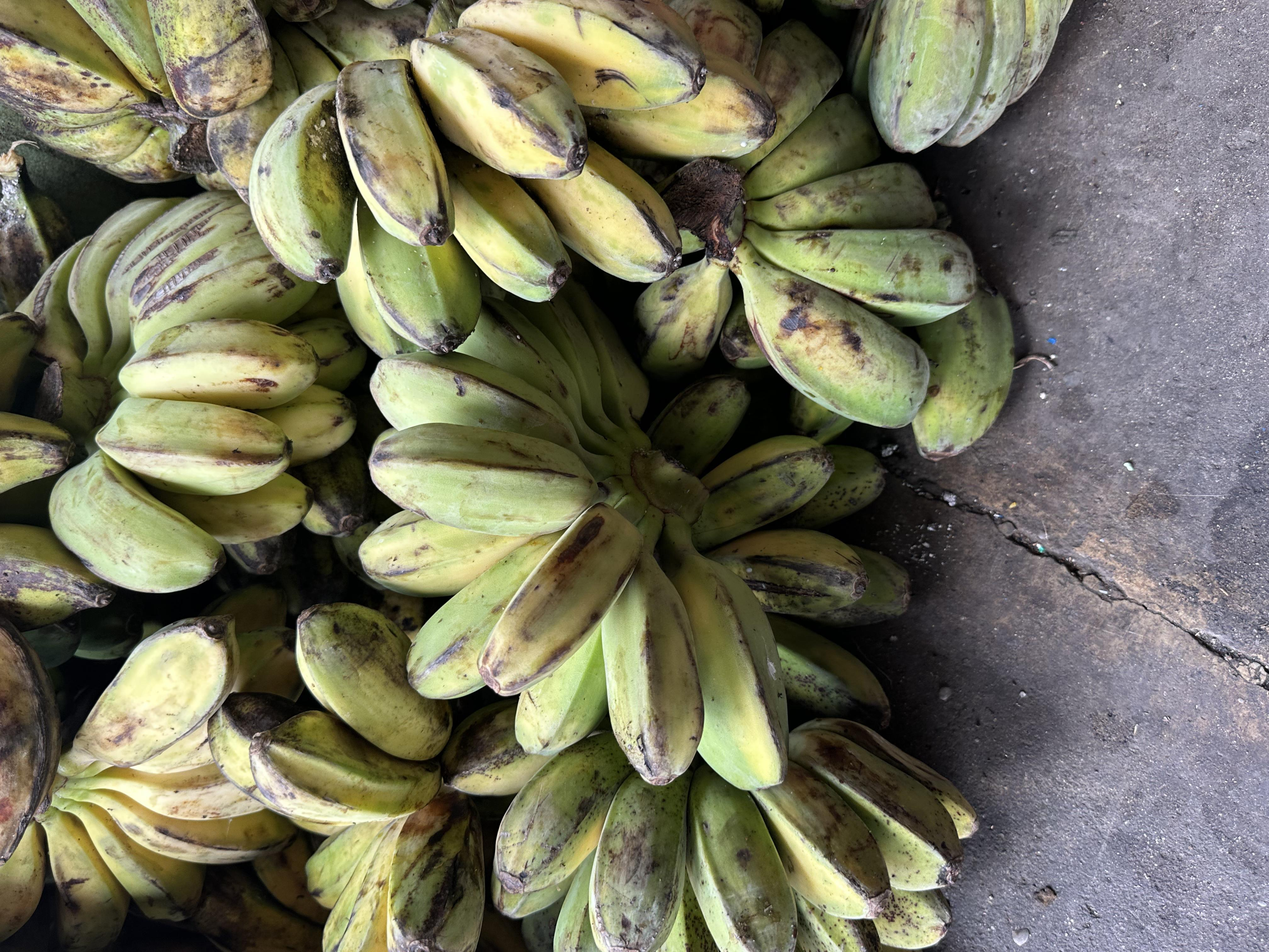underripe: (358, 272, 789, 792), (249, 0, 775, 356), (624, 0, 977, 430), (16, 189, 366, 592), (440, 698, 980, 952), (0, 614, 297, 952), (208, 605, 485, 952), (647, 372, 914, 731), (0, 0, 274, 184), (207, 0, 427, 200), (847, 0, 1072, 153)
